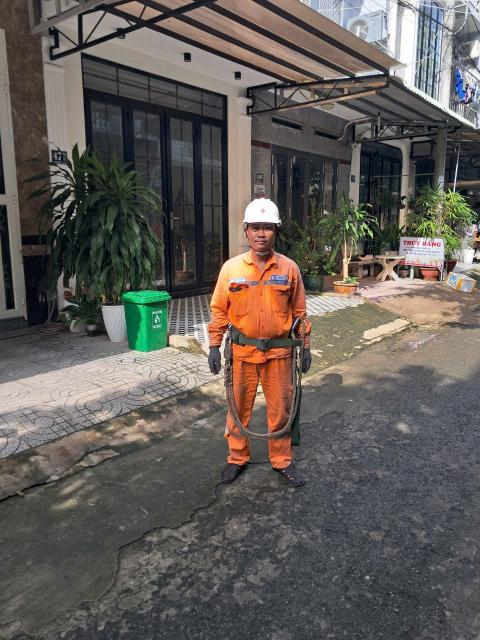gloves: (203, 344, 223, 376), (288, 347, 316, 368)
harness: (222, 321, 302, 357)
helmet: (239, 197, 284, 225)
shoes: (273, 465, 310, 487), (217, 460, 249, 484)
